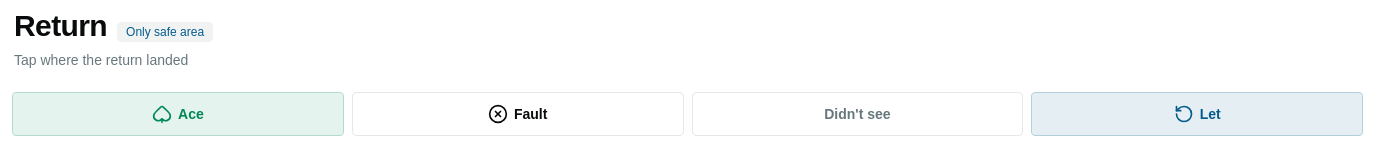
Scenario: a let reports itself and leaves the attempt where it was
Click the button "Let": (1197, 114) [1031,92,1363,136]
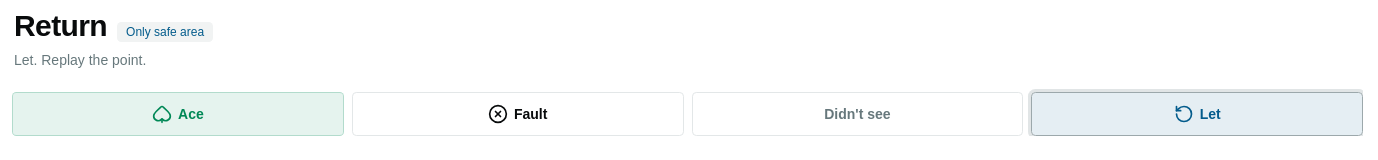
Expected: the message reads "Let. Replay the point.", [14,52,146,68]
